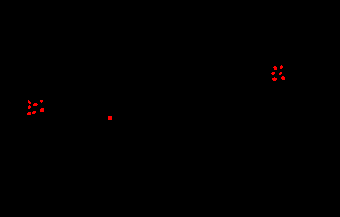Target: (272, 77, 277, 81), (273, 66, 277, 70), (281, 76, 285, 80), (40, 108, 44, 112), (108, 116, 112, 120), (33, 103, 38, 106), (280, 65, 283, 69), (271, 72, 275, 75), (28, 100, 31, 104), (28, 105, 31, 109), (32, 111, 36, 114), (27, 112, 31, 115), (279, 72, 282, 75), (40, 100, 43, 103)
